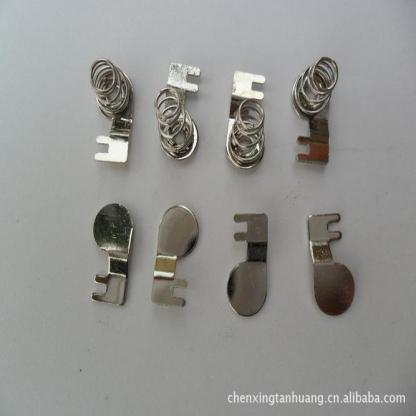FOD: (88, 53, 133, 122), (291, 54, 340, 117), (153, 84, 194, 159), (226, 95, 266, 168)
